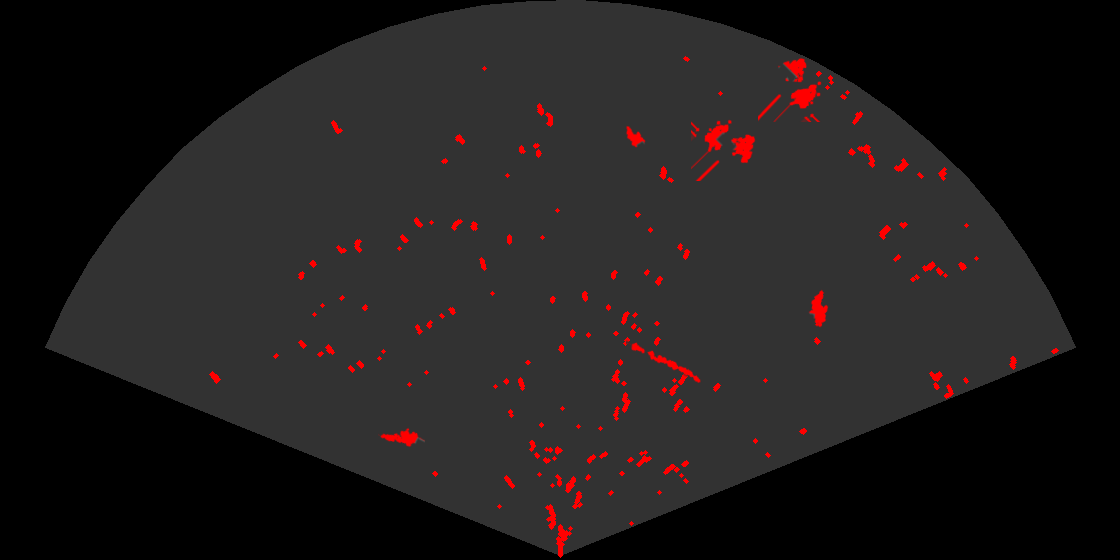AUV: (807, 288, 830, 329), (624, 124, 647, 149)
cage: (758, 56, 823, 122), (691, 118, 757, 181)
chain: (626, 340, 702, 384)
frogman: (378, 426, 425, 449)
